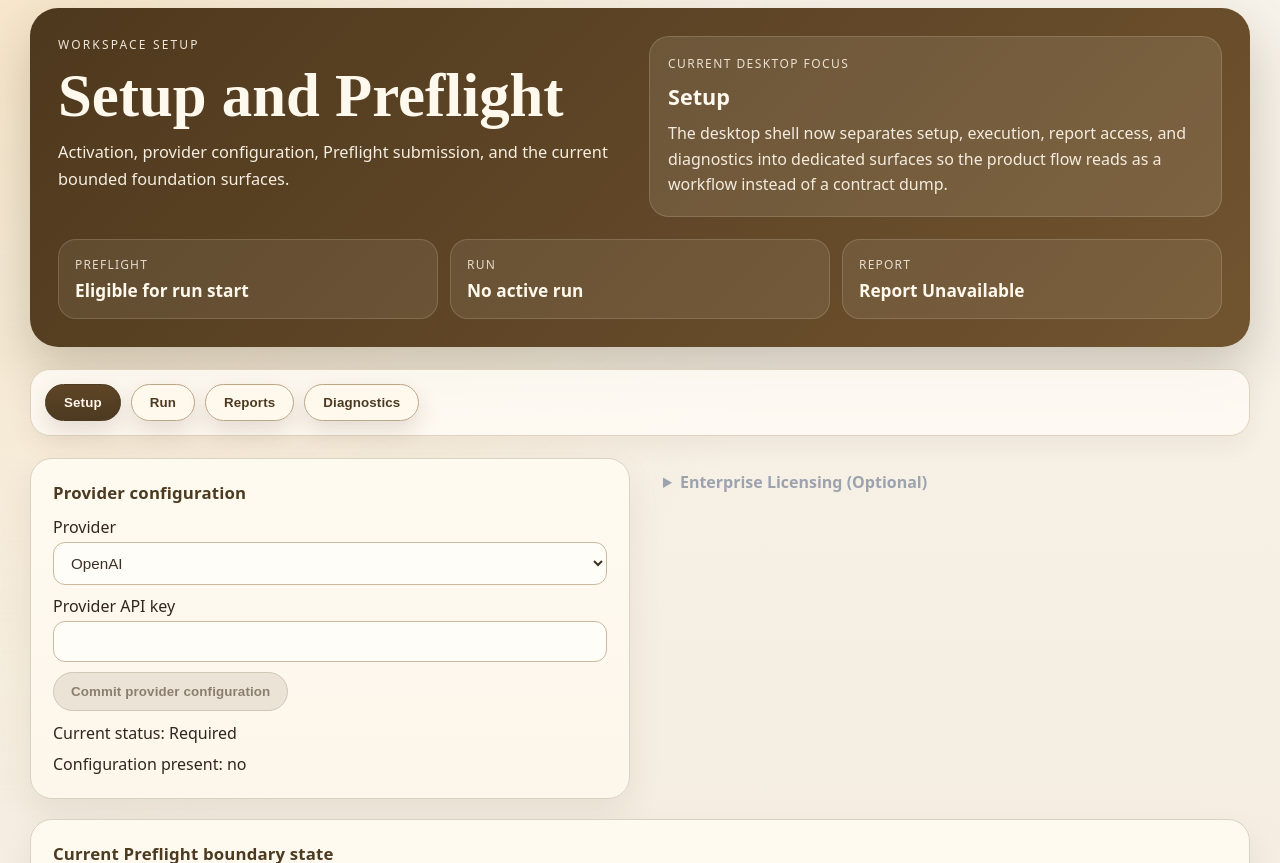
Test case: App Preflight submission flow › starts a fresh moderated run and renders finished execution truth when run start is authorized
What coordinates should you click on to do the following:
click the button "Run"
I would click on:
 (163, 402)
Its box is [131,384,195,421].
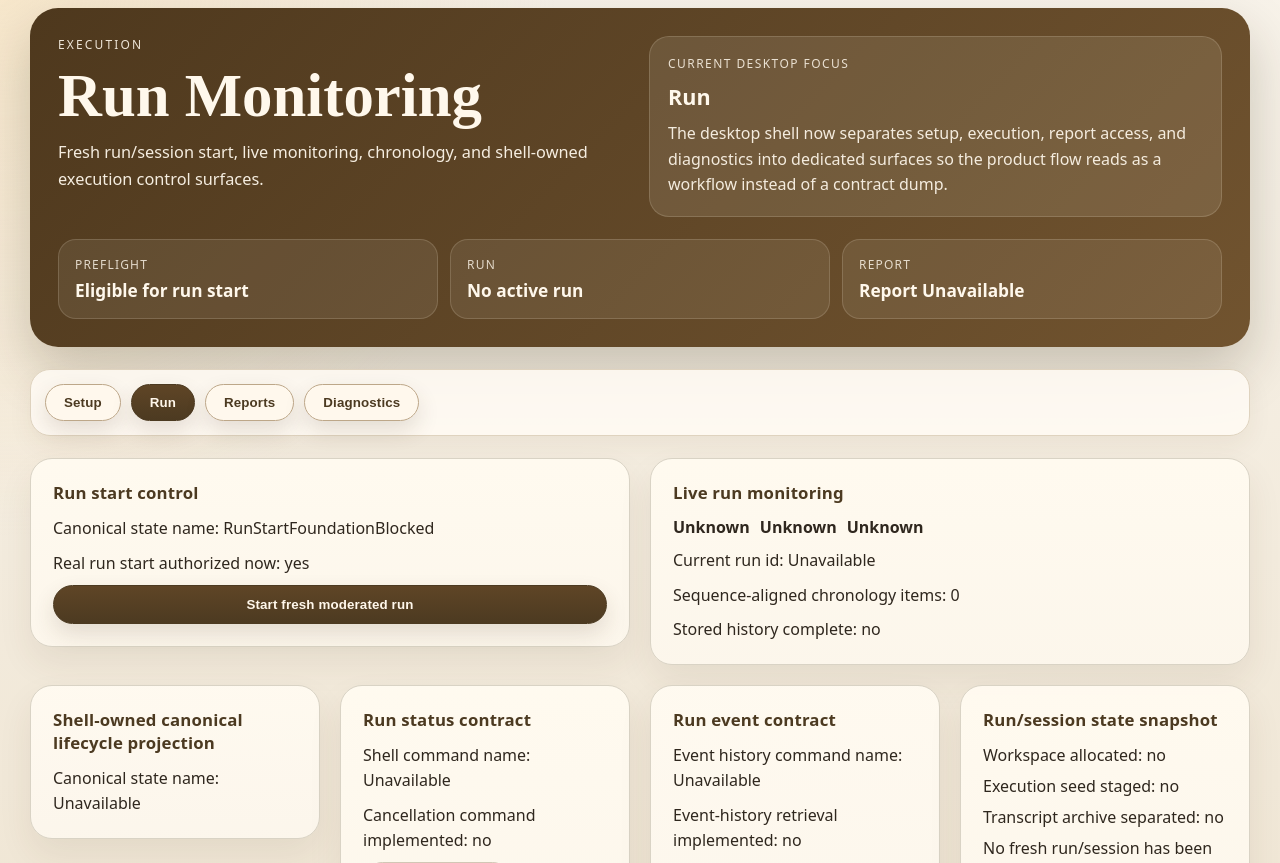
What coordinates should you click on to do the following:
click the button "Start fresh moderated run"
I would click on:
 (330, 605)
Its box is [53,585,607,624].
(page scrolled)
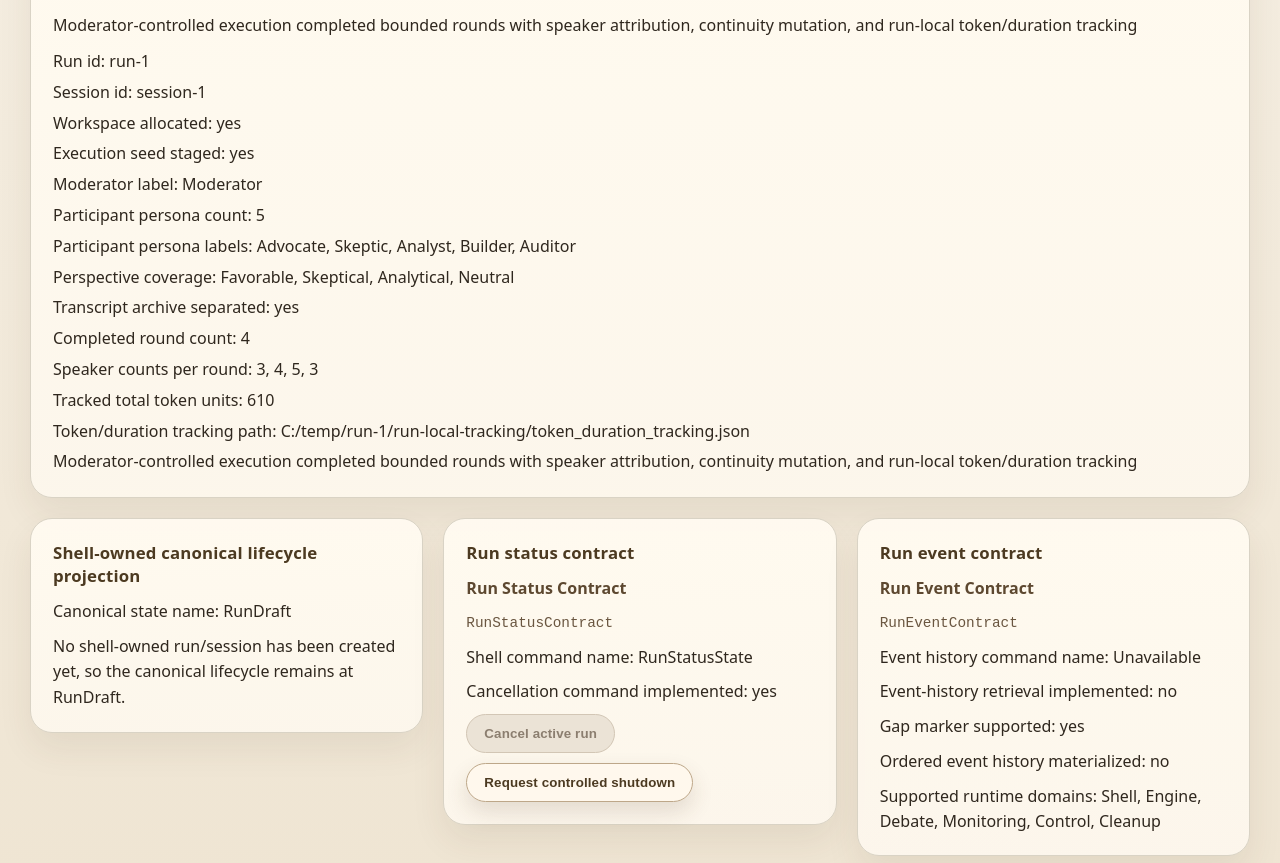
Expected: the text "Run id: run-1" is shown, [53,50,150,72]
Expected: the text "Workspace allocated: yes" is shown, [53,112,241,134]
Expected: the text "Execution seed staged: yes" is shown, [53,142,254,164]
